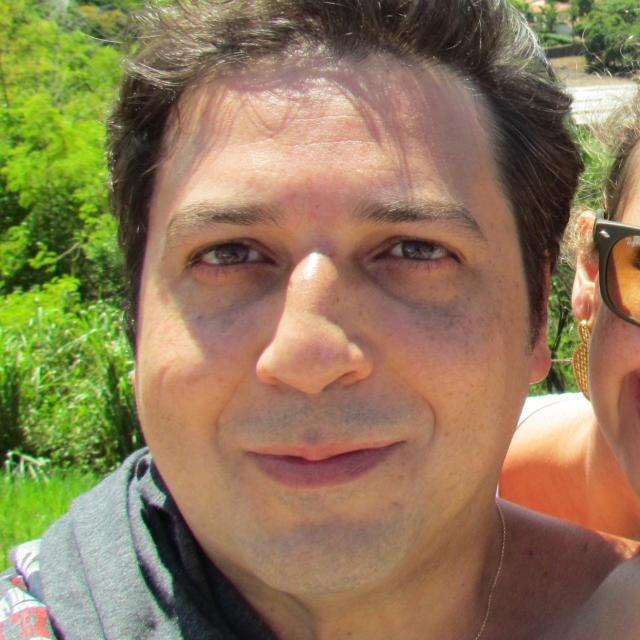Normal: (135, 46, 533, 589)
